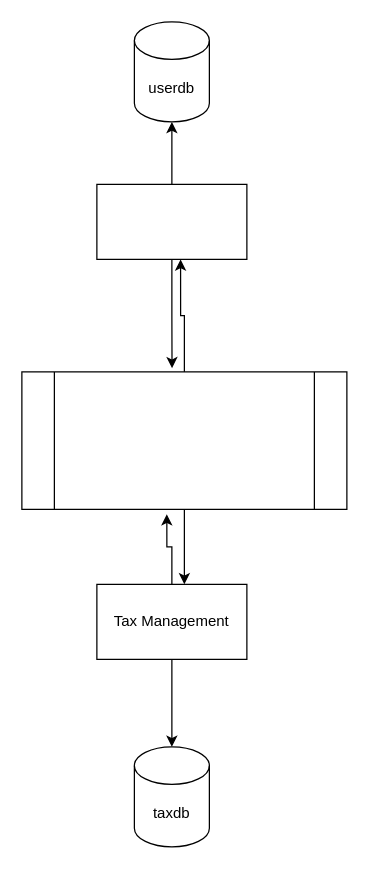
Some shapes in this 369 by 869 pixel diagram are drawn without their labels. Here are the shapes that lost their labels. From the top down, the box of each, then its label:
(96, 183, 247, 259): User Management
(21, 371, 347, 509): Kafka
